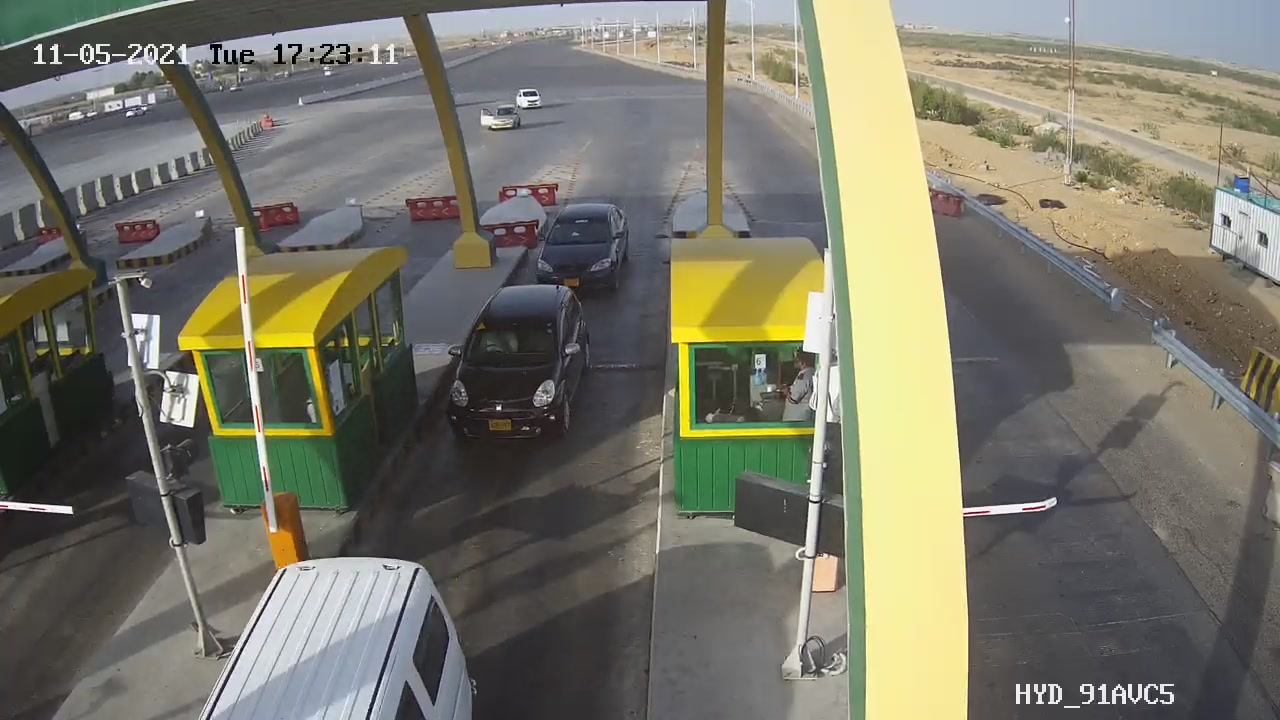F1: (430, 270, 595, 447), (521, 190, 644, 305)
